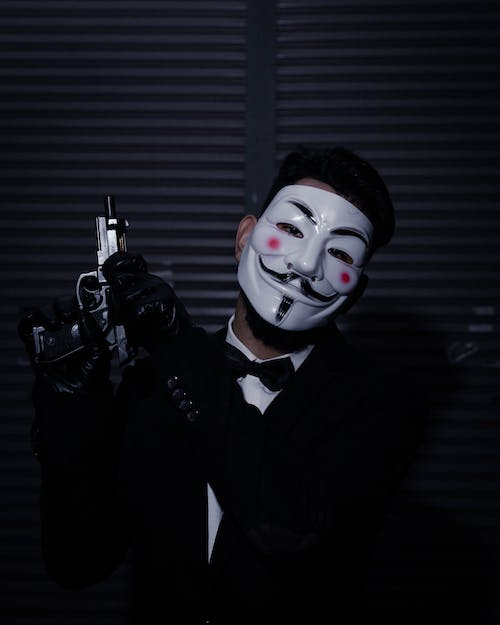gun: (28, 186, 137, 377)
